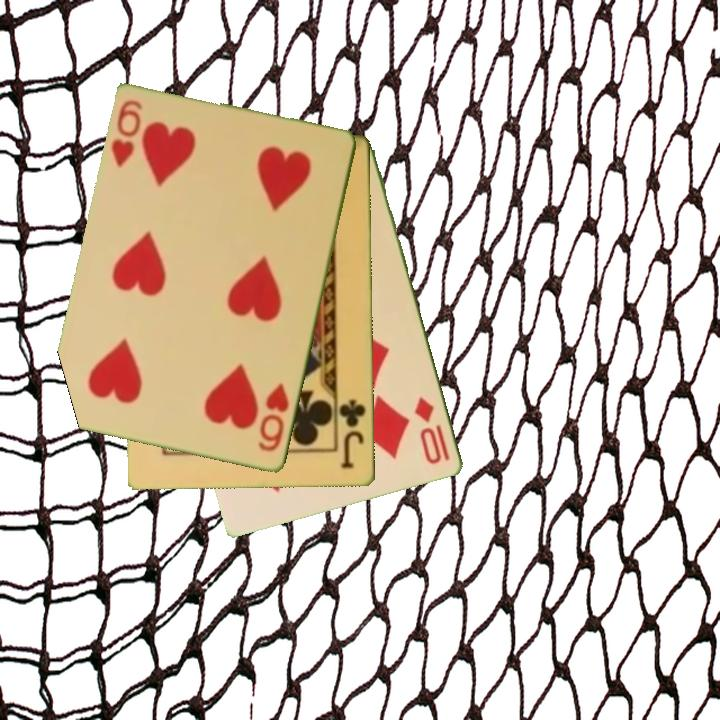10d: (411, 393, 453, 468)
6h: (255, 380, 293, 456), (108, 97, 146, 172)
Jc: (337, 396, 369, 472)
